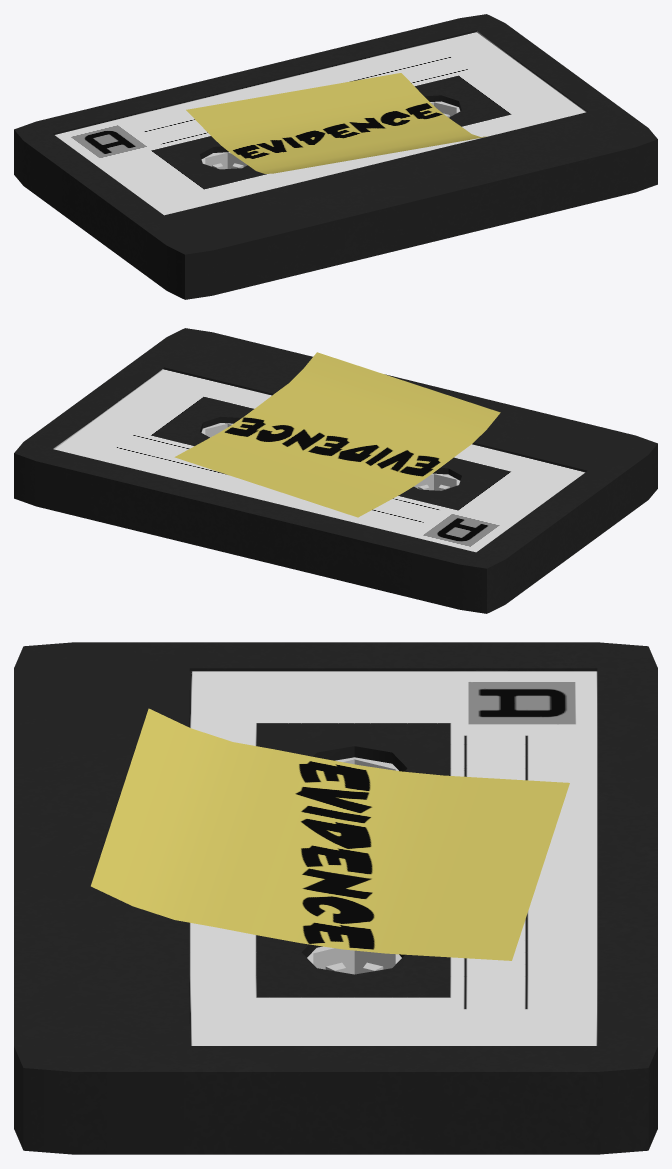
The model's file is incriminating_footage.fbx.
3 views of the same model, one above another, from view 1: azimuth 30°, elevation 25°; view 2: azimuth 150°, elevation 25°; view 3: azimuth 270°, elevation 25° (orthographic). The views are drawn at different scales.
Visible parts, largest first — view 1: casette, post_it, cog; view 2: casette, post_it, cog; view 3: casette, post_it, cog.
Part boxes in pixels (left/top/right/bottom): casette: left=14, top=14, right=657, bottom=299; post_it: left=186, top=73, right=486, bottom=173; cog: left=201, top=101, right=460, bottom=169; casette: left=14, top=328, right=657, bottom=613; post_it: left=174, top=352, right=500, bottom=517; cog: left=201, top=423, right=460, bottom=490; casette: left=14, top=642, right=657, bottom=1154; post_it: left=91, top=708, right=569, bottom=960; cog: left=307, top=757, right=401, bottom=974.
Bounding box in the file's own units: 10.14 × 1.43 × 6.42.
Materials: 5 (2 with a texture image).
